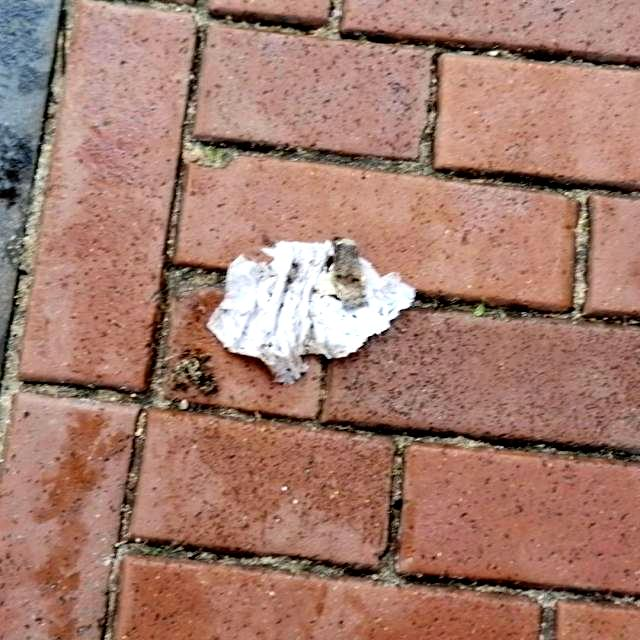Paper: (205, 239, 417, 387)
